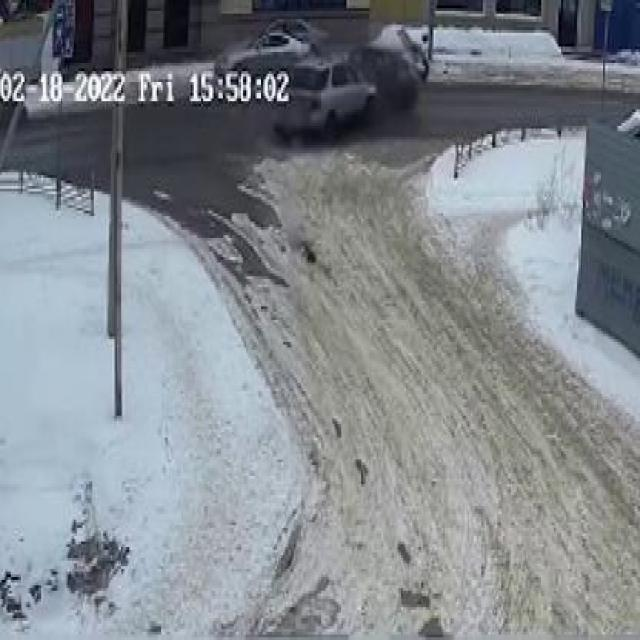accident: (269, 19, 426, 145)
